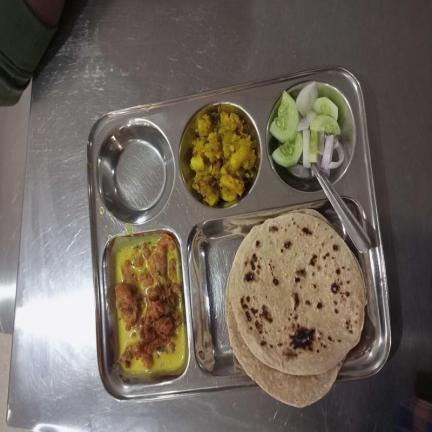Curry: (115, 234, 187, 372)
Plate: (86, 66, 391, 402)
Roti: (225, 208, 367, 408)
Salad: (270, 81, 345, 172)
Zeera Aalu: (191, 109, 257, 206)
